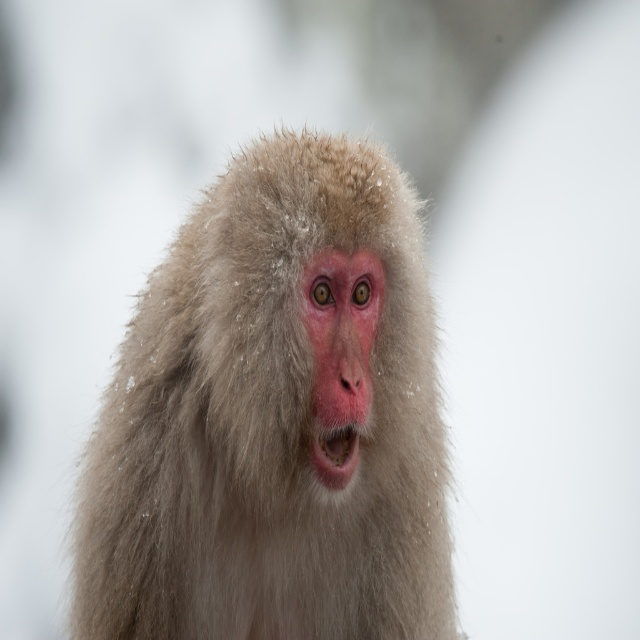Monkey: (54, 107, 481, 630)
